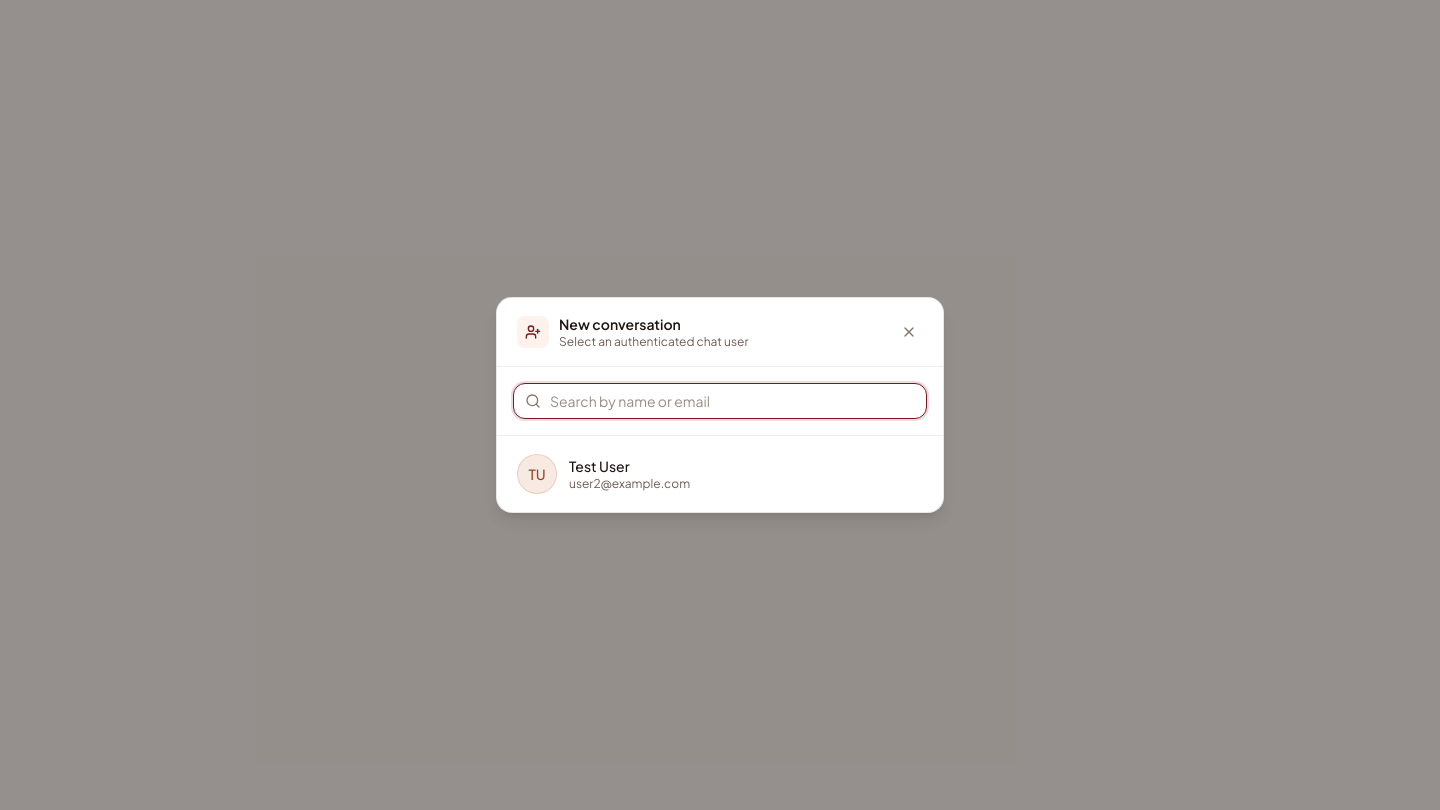
Scenario: ImageViewer & VoiceRecorder › displays permission error inside NewConversationModal without throwing an unhandled rejection
Step 1. Click the text "Test User" → coordinates (599, 466), box x1=569 y1=456 x2=630 y2=476
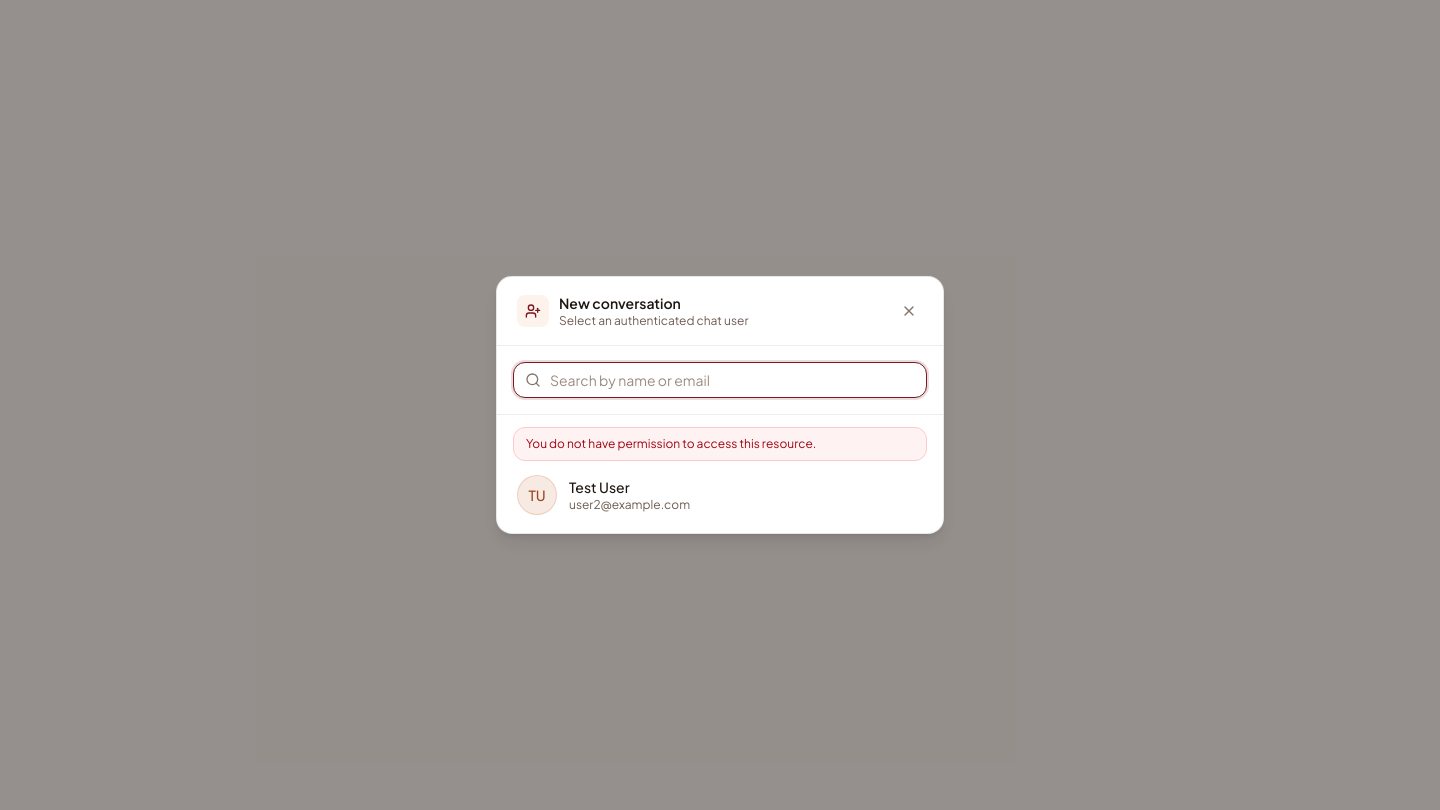
Now the text "You do not have permission to access this resource." is shown, box x1=513 y1=427 x2=927 y2=461
